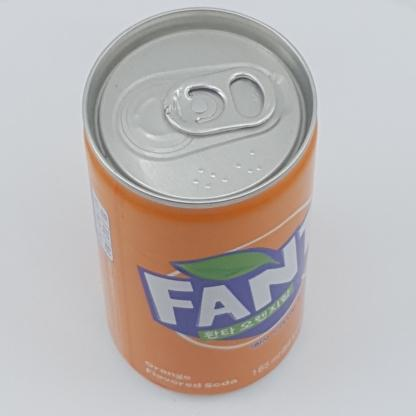-------185ML: (82, 7, 318, 395)
